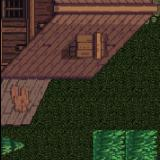Obstacle: (0, 0, 92, 130)
Slow: (92, 130, 156, 160)
